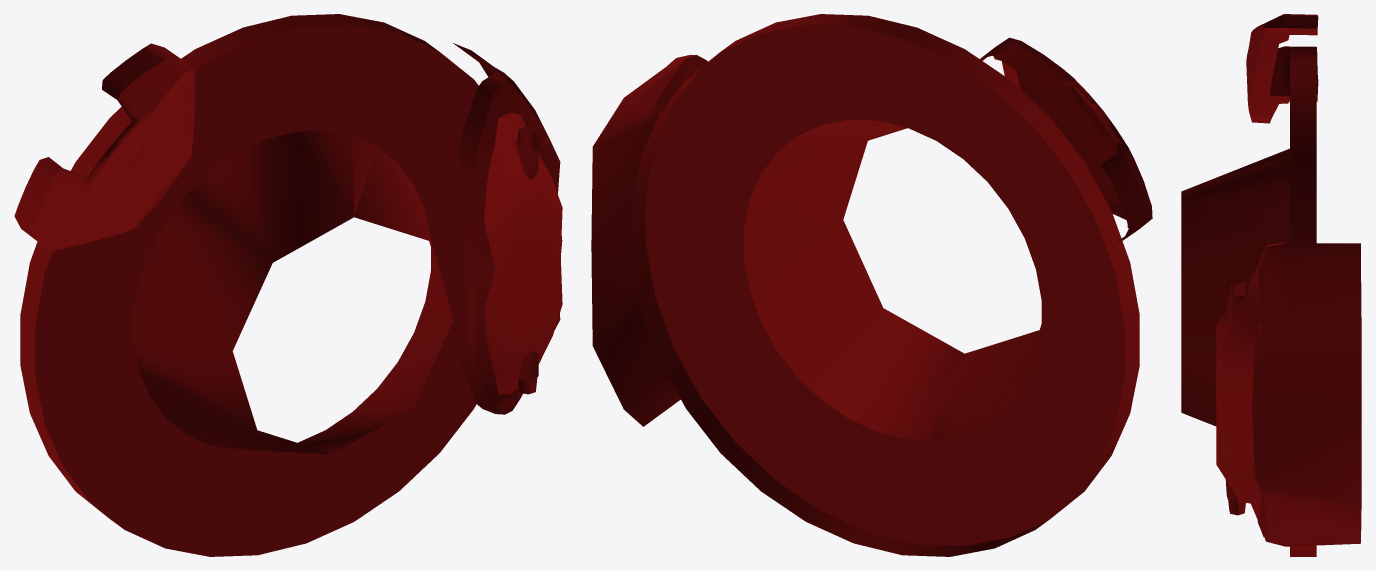
The model's file is PalladiumX_Brakes_Perf_R.glb.
3 renders of one model, left to right at view 1: azimuth 30°, elevation 25°; view 2: azimuth 150°, elevation 25°; view 3: azimuth 270°, elevation 25°, orthographic. The views are drawn at different scales.
Visible parts, largest first — view 1: Rotor_Std_R2, Caliper_Std_R2; view 2: Rotor_Std_R2, Caliper_Std_R2; view 3: Caliper_Std_R2, Rotor_Std_R2.
Part boxes in pixels (x1=…): Rotor_Std_R2: x1=20, y1=14, x2=478, y2=556; Caliper_Std_R2: x1=14, y1=43, x2=562, y2=414; Rotor_Std_R2: x1=631, y1=14, x2=1139, y2=556; Caliper_Std_R2: x1=591, y1=37, x2=1152, y2=426; Caliper_Std_R2: x1=1216, y1=14, x2=1361, y2=546; Rotor_Std_R2: x1=1181, y1=47, x2=1316, y2=556.
Bounding box in the file's own units: 0.3793 × 0.3686 × 0.1292.
